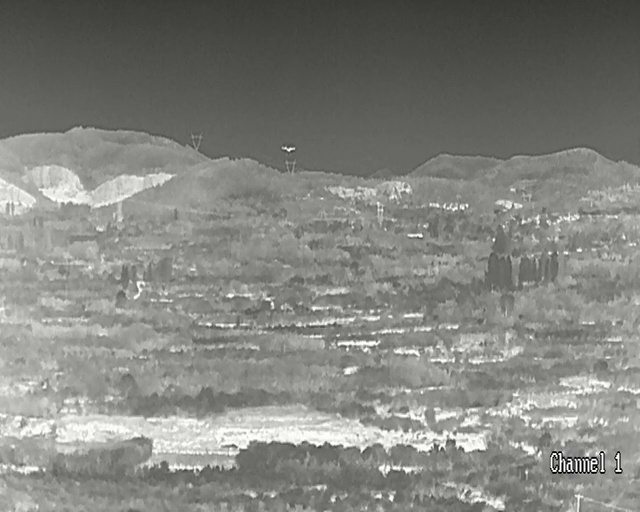uav: (281, 146, 294, 151)
